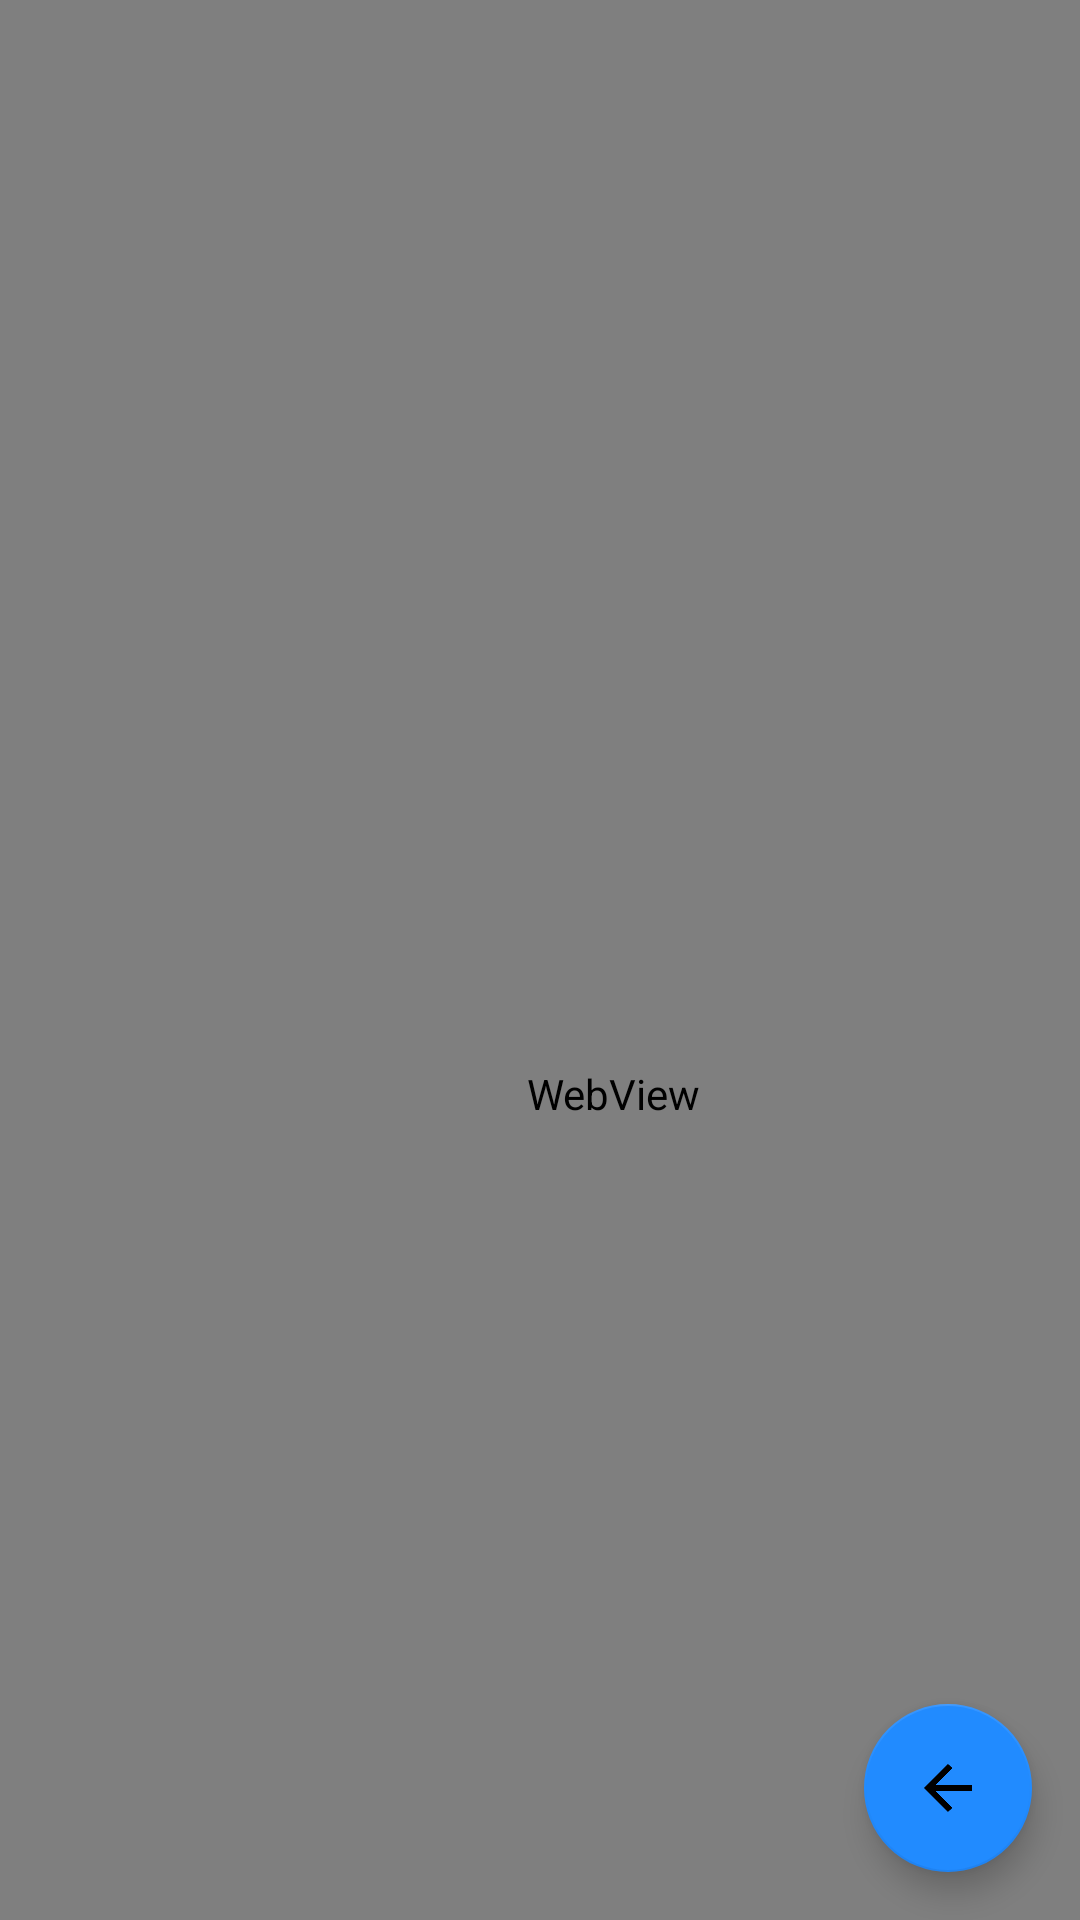

Named icons in this screenshot (1080x1920) and their centers, point (x, y):
arrow back: point (948, 1788)
